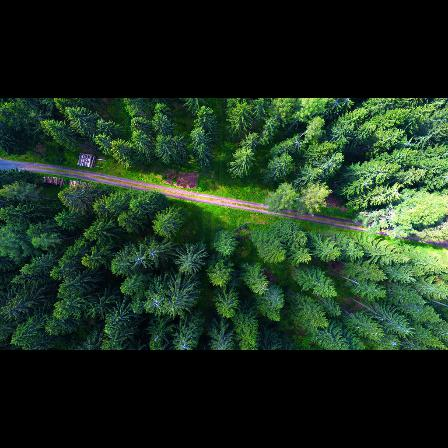Sick: (144, 291, 168, 313), (288, 131, 308, 151), (127, 252, 147, 267), (146, 245, 160, 261)
